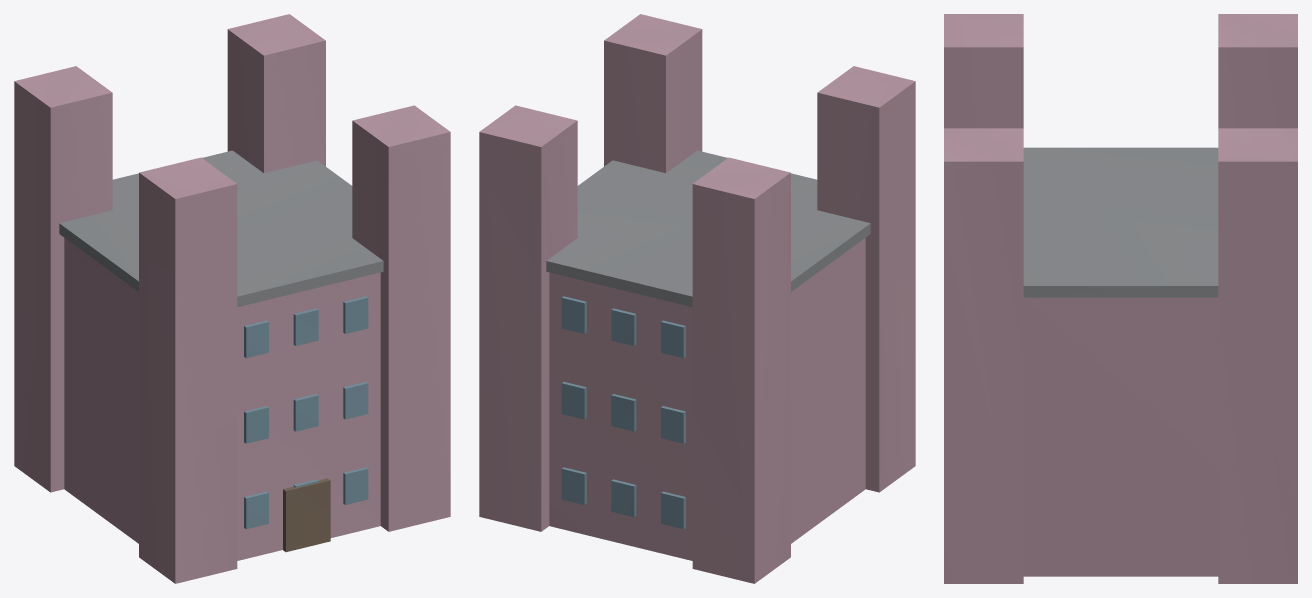
Rendered from castle-00.glb.
3 views of the same model, side by side, from view 1: azimuth 30°, elevation 25°; view 2: azimuth 150°, elevation 25°; view 3: azimuth 270°, elevation 25° (orthographic). The views are drawn at different scales.
Visible parts, largest first — view 1: world; view 2: world; view 3: world.
Boxes of the visible parts, box(x1,y1,x2,y2) form: world: box(14, 14, 450, 583); world: box(479, 14, 915, 583); world: box(944, 14, 1297, 583).
Size of the model in its own units: 1.89 by 2.52 by 1.92.
